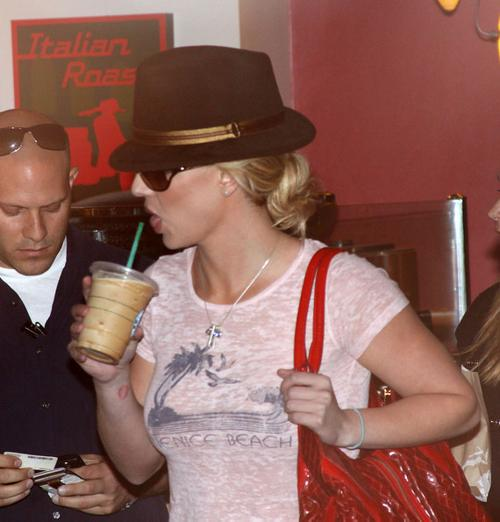person: (68, 39, 485, 522)
